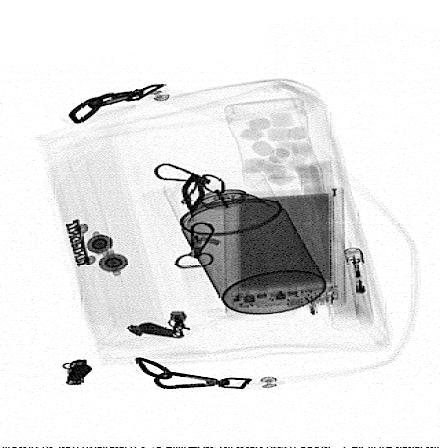Lighter: (344, 248, 375, 326)
Powerbank: (223, 189, 346, 308)
Sprayer: (163, 165, 328, 315)
